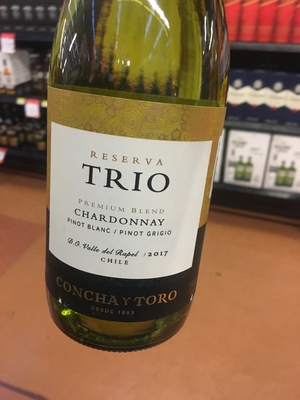trio chardonnay: (39, 23, 243, 359)
